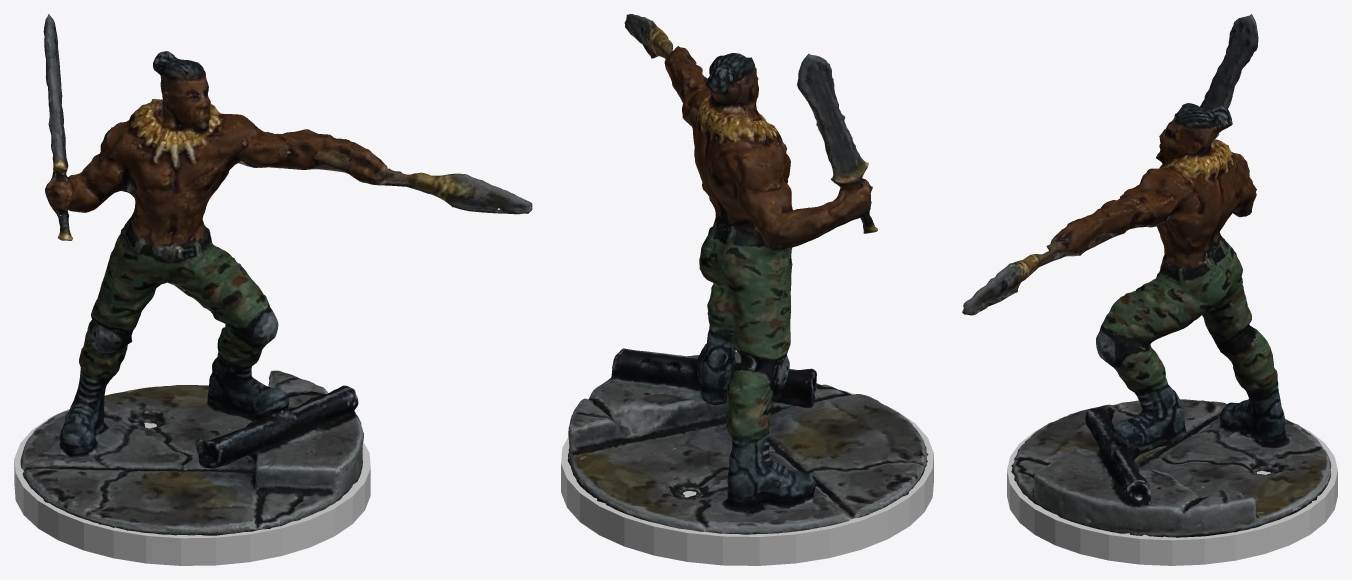
3 renders of one model, left to right at view 1: azimuth 30°, elevation 25°; view 2: azimuth 150°, elevation 25°; view 3: azimuth 270°, elevation 25°, orthographic. The views are drawn at different scales.
Visible parts, largest first — view 1: Killmonger, default; view 2: Killmonger, default; view 3: Killmonger, default.
Part boxes in pixels (x1,y1,x2,y2): Killmonger: (20, 14, 532, 535); default: (14, 408, 370, 565); Killmonger: (567, 14, 928, 534); default: (561, 389, 933, 565); Killmonger: (962, 14, 1331, 537); default: (1007, 421, 1337, 565).
Bounding box in the file's own units: 1.7 × 2 × 1.56.
2 materials, 1 textured.
